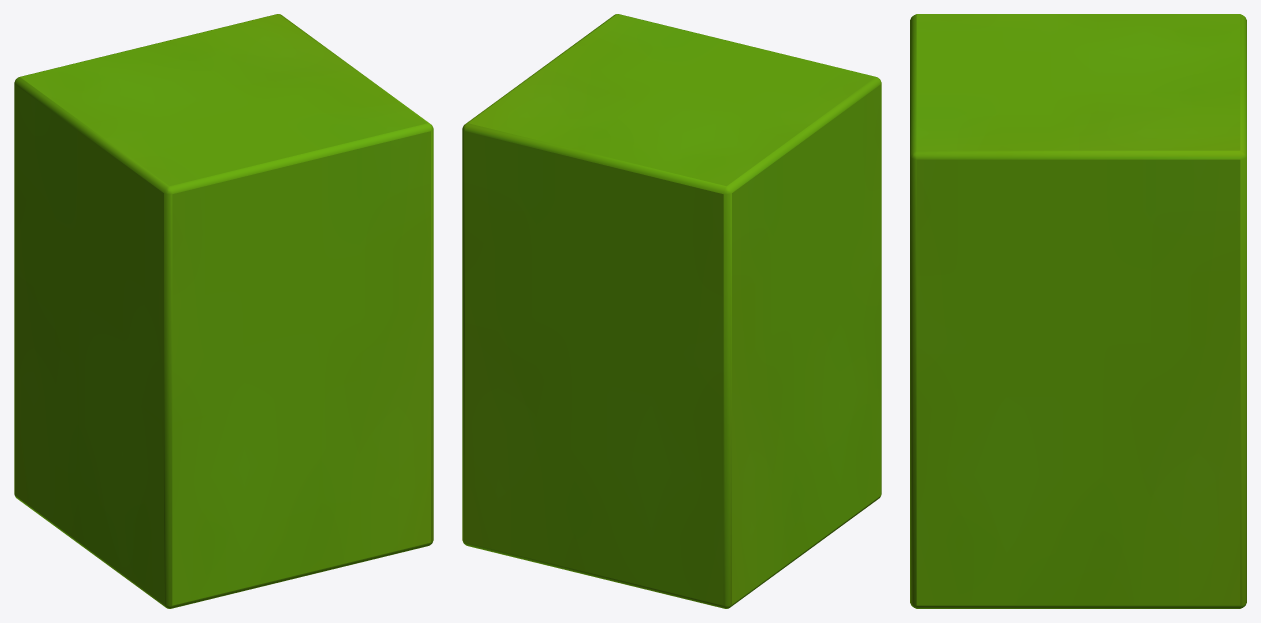
File: CuboidGreen.fbx
3 views of the same model, side by side, from view 1: azimuth 30°, elevation 25°; view 2: azimuth 150°, elevation 25°; view 3: azimuth 270°, elevation 25° (orthographic). The views are drawn at different scales.
Visible parts, largest first — view 1: Cube; view 2: Cube; view 3: Cube.
Boxes of the visible parts, box(x1,y1,x2,y2) form: Cube: box(14, 14, 433, 608); Cube: box(462, 14, 881, 608); Cube: box(910, 14, 1246, 608).
Bounding box in the file's own units: 2 × 3 × 2.
